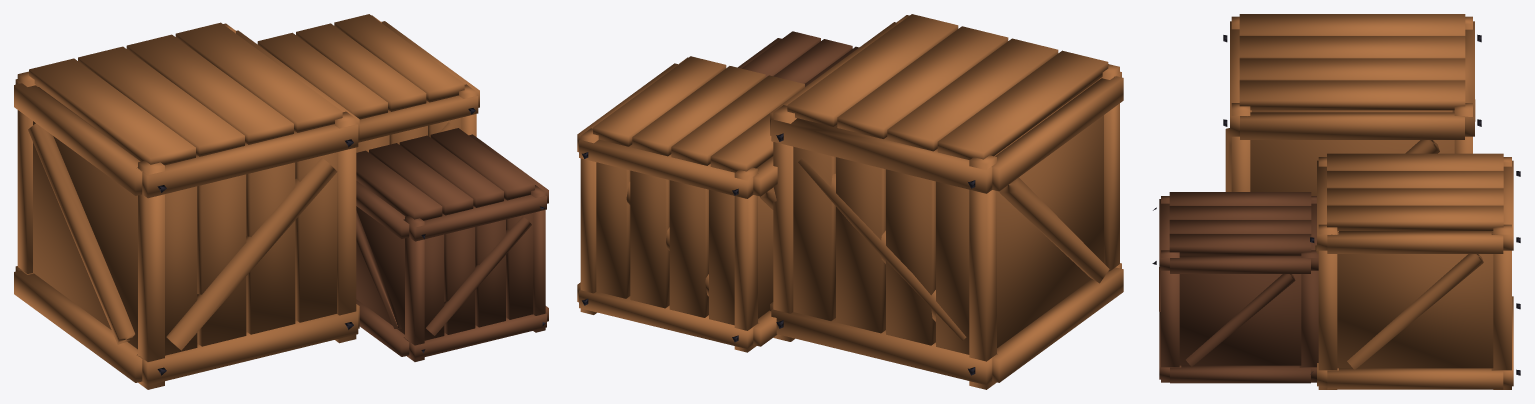
File: prop.crates.lod1.glb
3 renders of one model, left to right at view 1: azimuth 30°, elevation 25°; view 2: azimuth 150°, elevation 25°; view 3: azimuth 270°, elevation 25°, orthographic. The views are drawn at different scales.
Size of the model in its own units: 1.2 by 0.6614 by 1.05.
